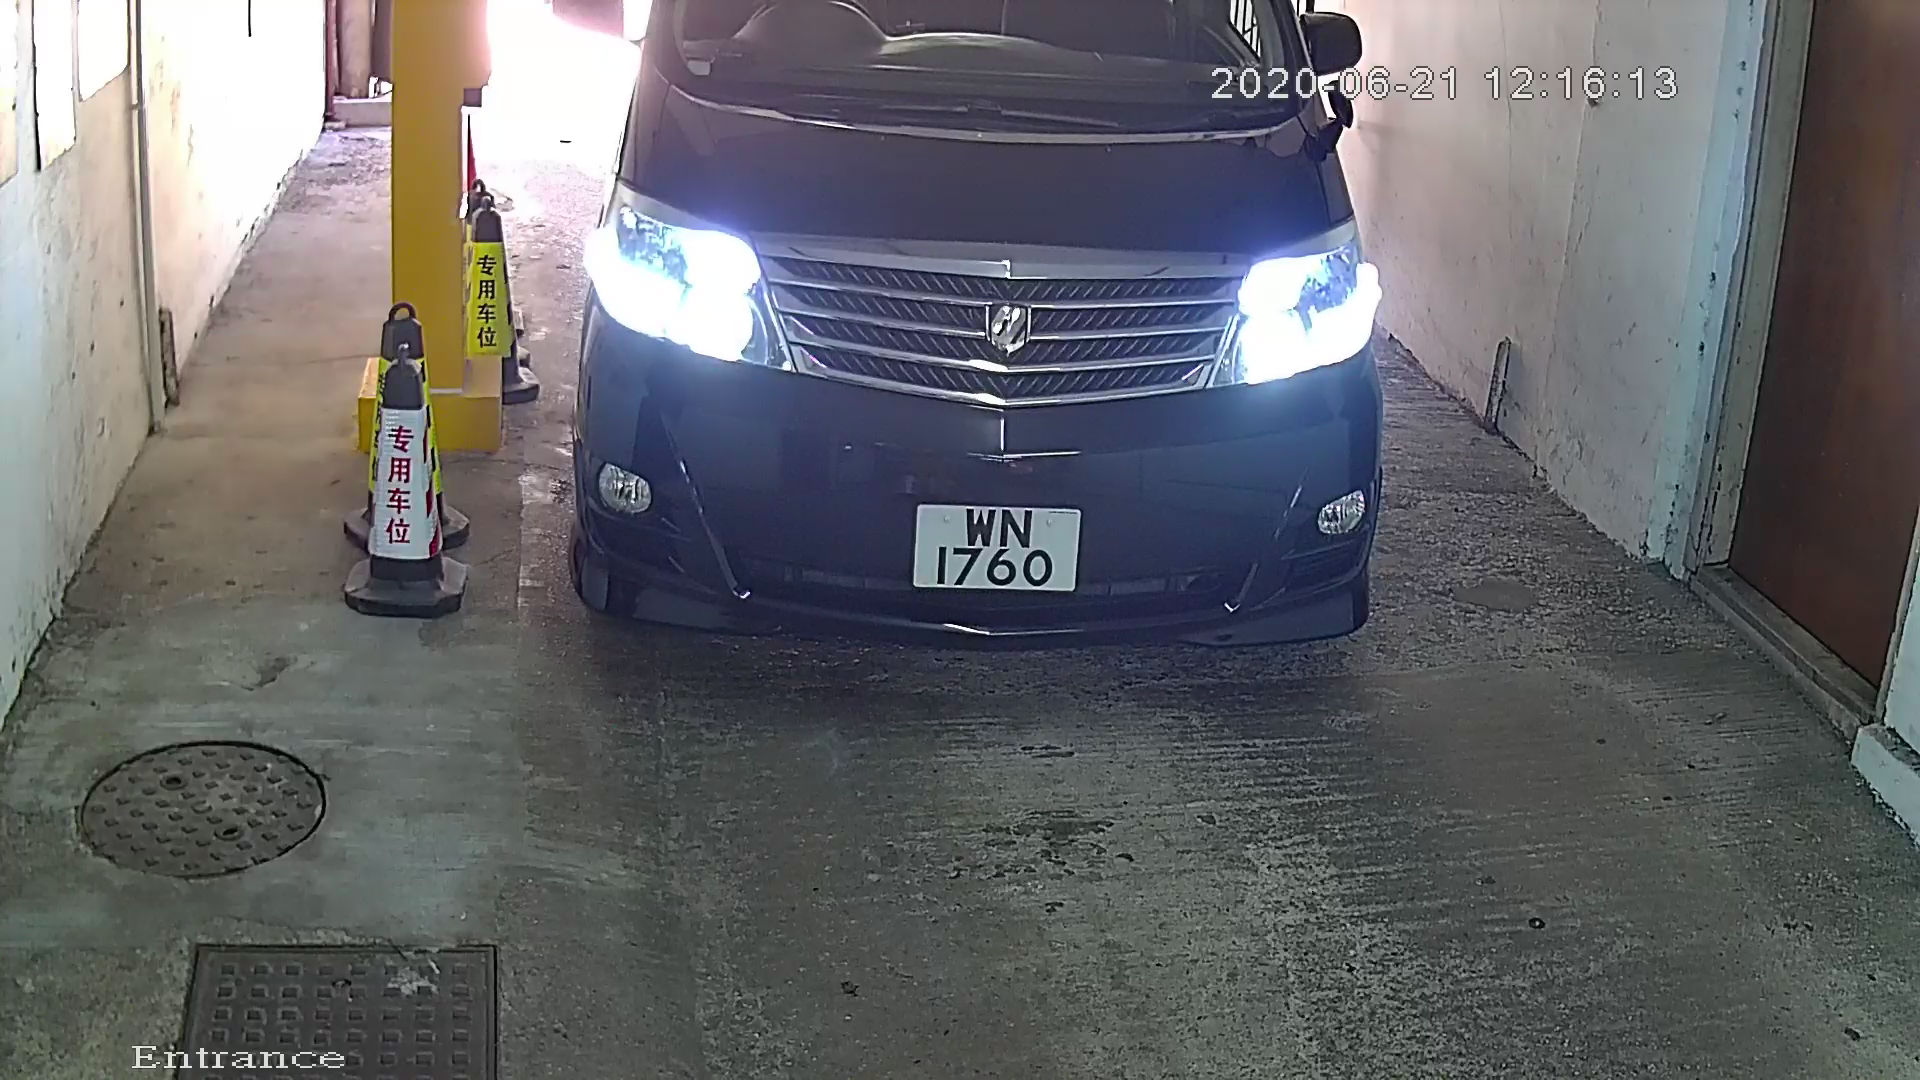privatecar: (564, 3, 1408, 659)
